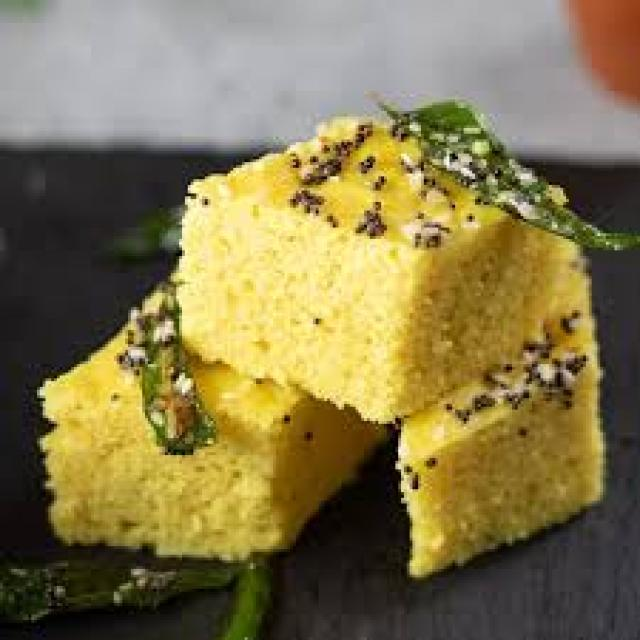DHOKLA: (178, 115, 572, 424), (39, 276, 386, 554), (400, 230, 613, 580)
